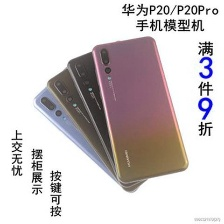phone: (63, 36, 183, 189), (43, 57, 170, 192), (31, 71, 160, 193), (91, 33, 189, 184)
